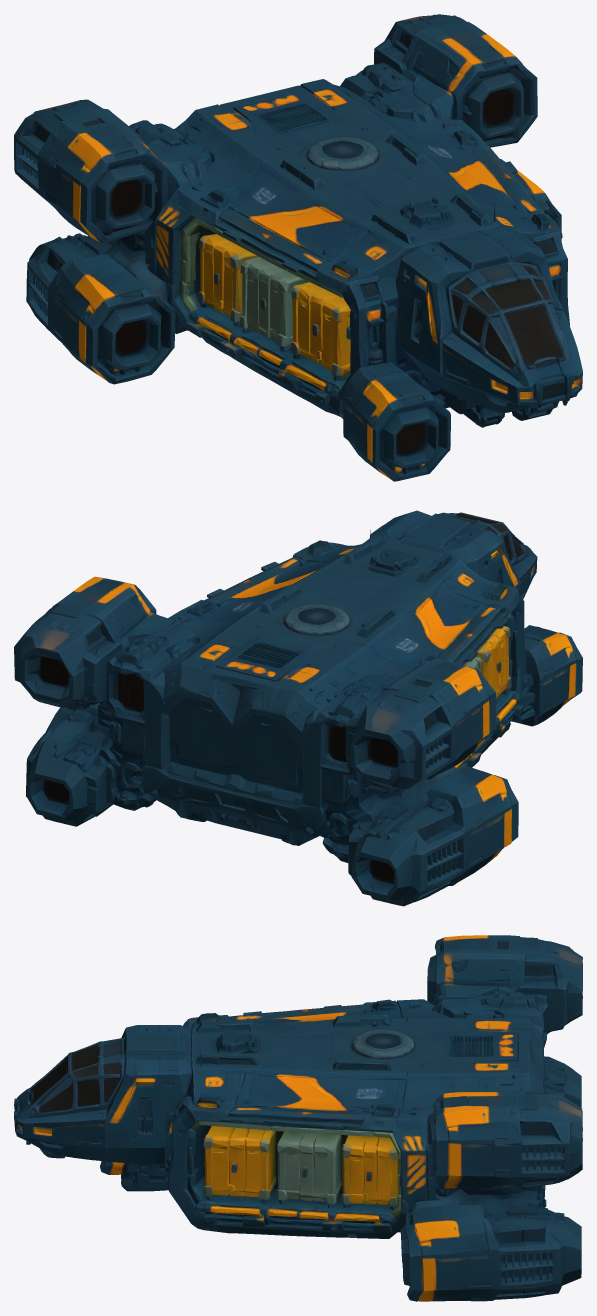
File: scene-detail.glb
The picture shows the model from 3 angles, top to bottom: view 1: azimuth 30°, elevation 25°; view 2: azimuth 150°, elevation 25°; view 3: azimuth 270°, elevation 25°; orthographic projection. The views are drawn at different scales.
Parts seen in each view (by area): view 1: model; view 2: model; view 3: model.
Boxes of the visible parts, x1,y1,x2,y2 form: model: (14, 14, 582, 481); model: (14, 510, 582, 906); model: (14, 935, 582, 1301).
Bounding box in the file's own units: 1.57 × 0.7018 × 1.9.
1 material, 1 textured.
